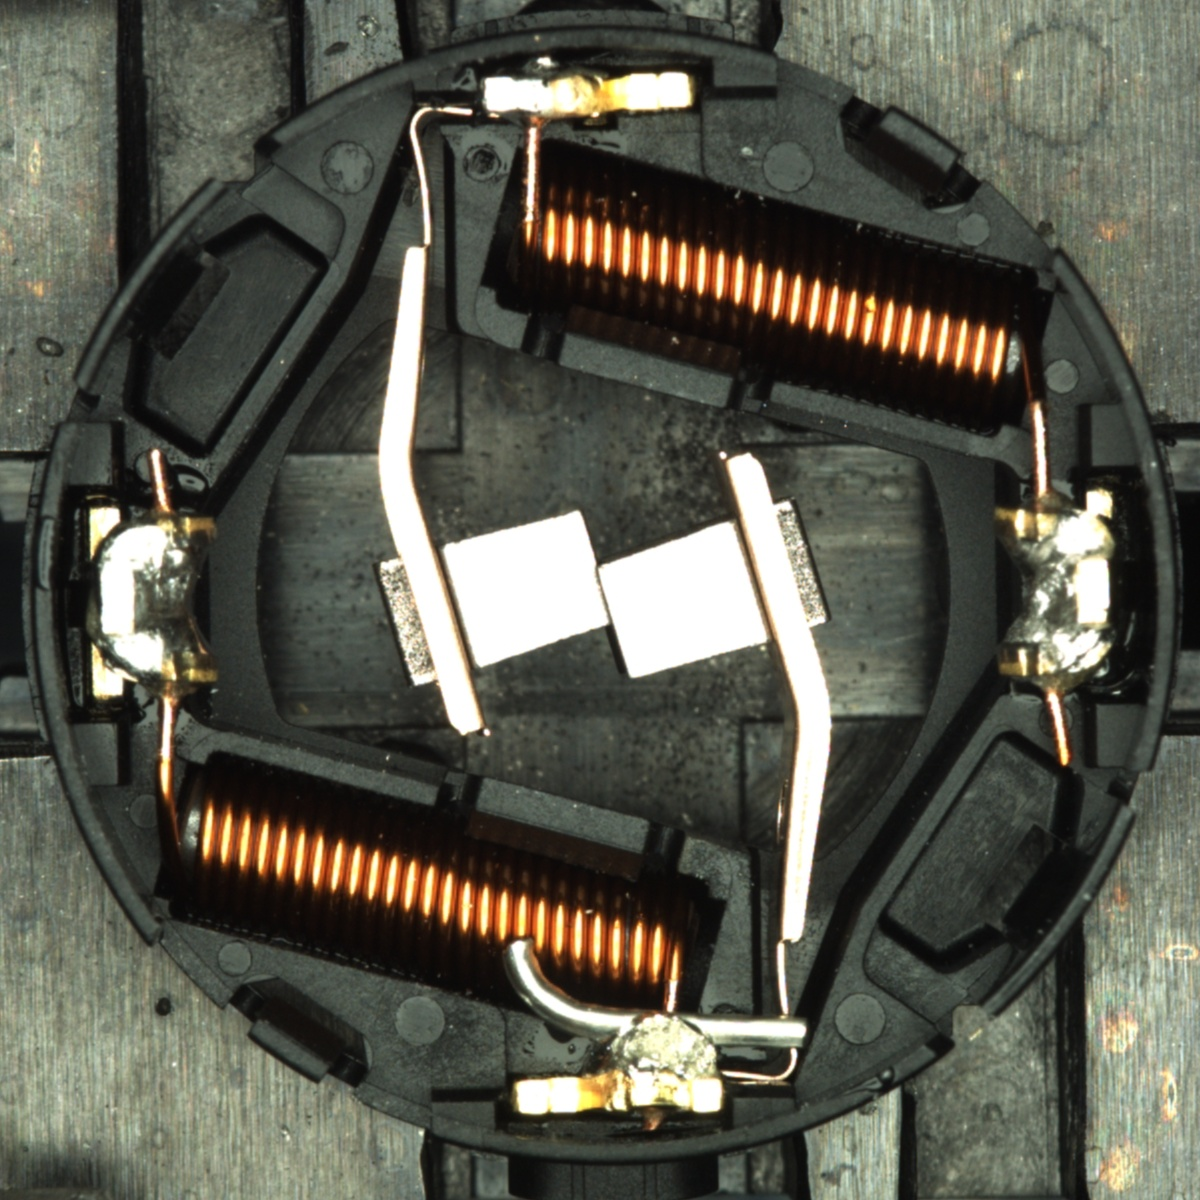1: (256, 32, 486, 256)
2: (714, 32, 944, 256), (256, 930, 486, 1154)
3: (27, 256, 256, 481), (944, 705, 1173, 930)
4: (256, 256, 486, 481), (714, 705, 944, 930)
5: (486, 144, 714, 368)
6: (714, 256, 944, 481), (256, 705, 486, 930)
7: (944, 256, 1173, 481), (27, 705, 256, 930)
cacbon: (403, 498, 797, 688)
chau_dien: (84, 499, 224, 701), (984, 488, 1123, 685)
thanh_de: (956, 787, 1144, 1032), (62, 165, 245, 405)
vun_chi: (500, 938, 632, 1047), (676, 1010, 808, 1051)
